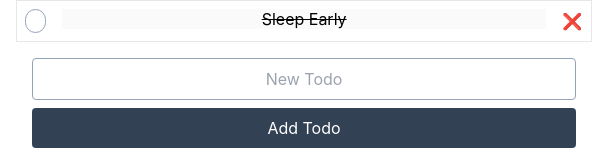
Test: TodoListPage › updating todos › removes the Delete button when toggled to 'incomplete'
Expected: the button "❌" is shown, x1=562 y1=9 x2=582 y2=33
Click the checkbox at point(36, 21), box x1=25 y1=9 x2=46 y2=33
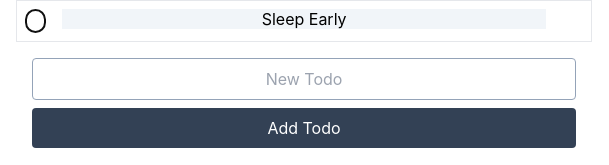
Now the button "❌" is gone
